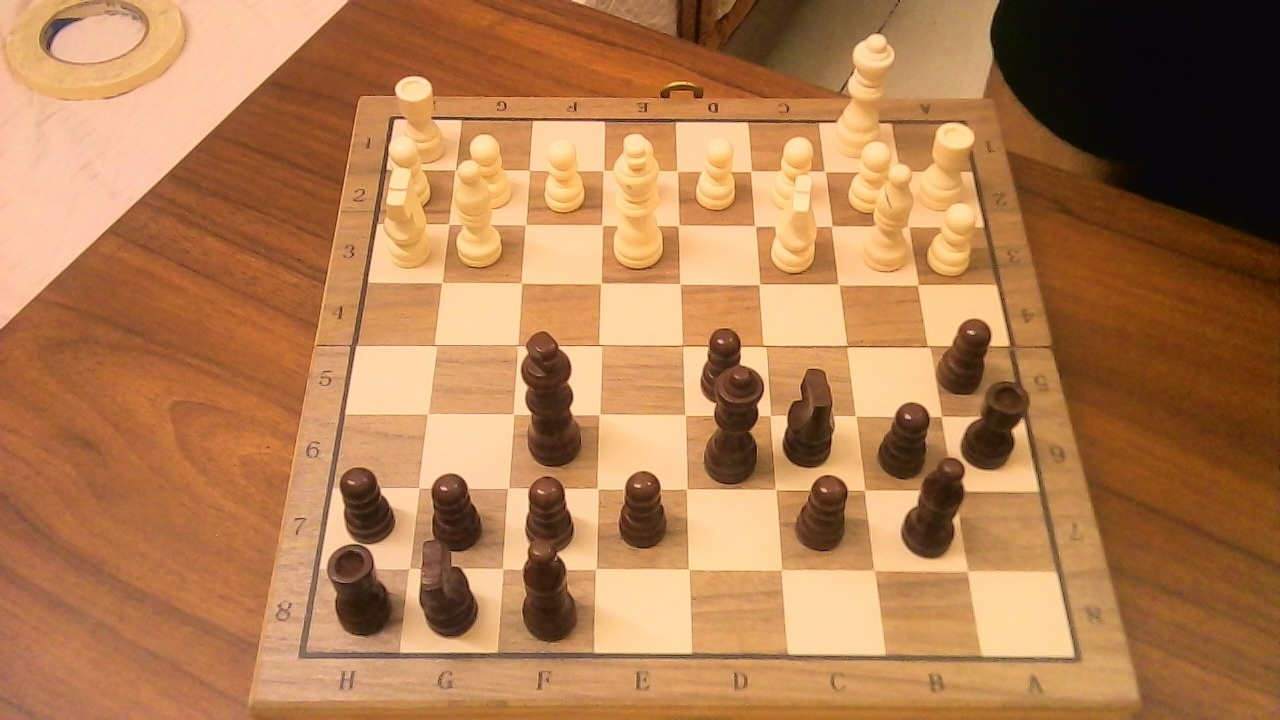B: (855, 154, 923, 278), (449, 148, 513, 271)
K: (606, 124, 674, 271)
N: (763, 163, 829, 278), (373, 191, 437, 274)
P: (840, 135, 912, 218), (922, 194, 985, 278), (459, 125, 518, 213), (764, 128, 822, 215), (535, 129, 591, 217), (688, 127, 744, 215), (383, 128, 437, 211)
Q: (829, 21, 902, 164)
R: (917, 111, 983, 216), (390, 67, 450, 167)
b: (897, 445, 979, 564), (514, 540, 589, 645)
k: (517, 321, 593, 468)
n: (411, 525, 490, 641), (780, 354, 849, 470)
p: (331, 456, 405, 544), (421, 462, 493, 552), (789, 463, 859, 555), (937, 307, 1001, 397), (693, 320, 753, 405), (880, 400, 942, 480), (618, 470, 668, 550), (522, 477, 576, 550)
q: (694, 352, 775, 487)
r: (323, 533, 401, 638), (966, 370, 1037, 471)
